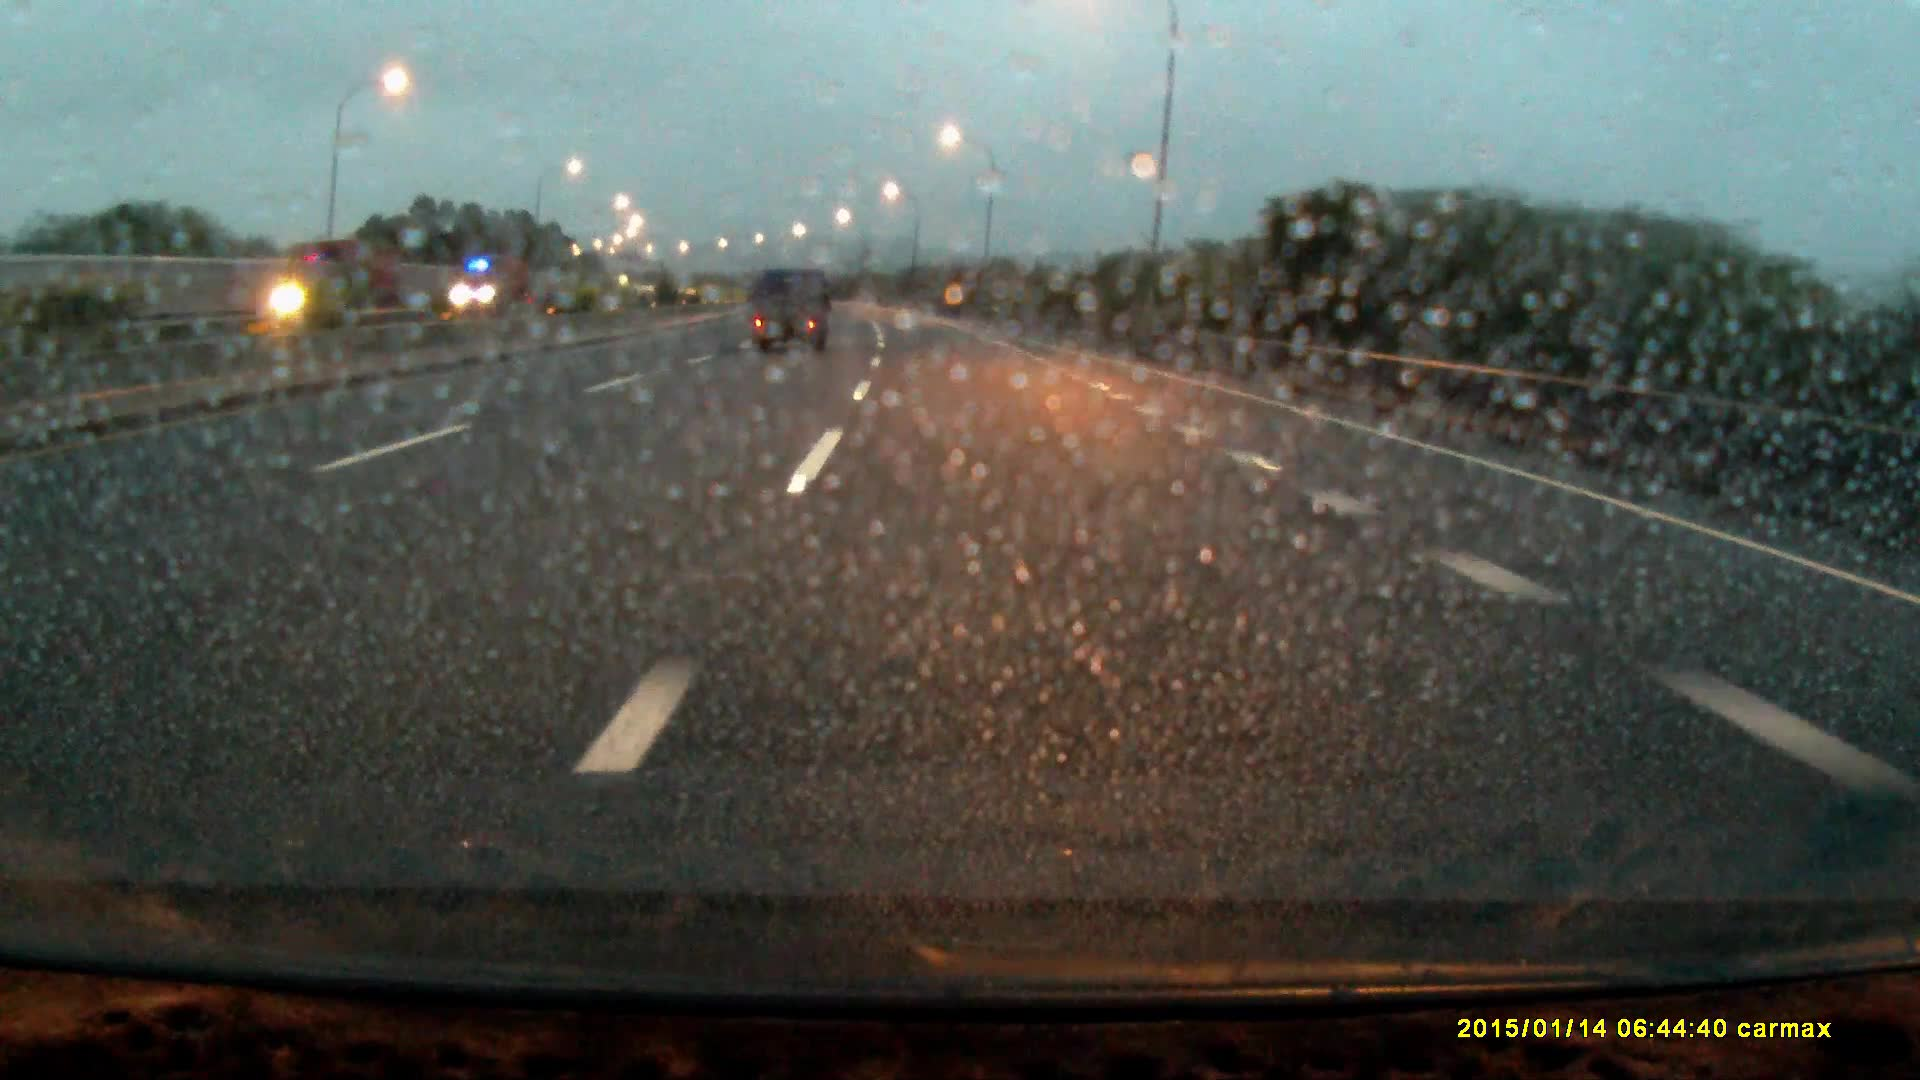vehicle: (262, 247, 405, 328), (749, 270, 828, 361), (450, 255, 529, 316)
